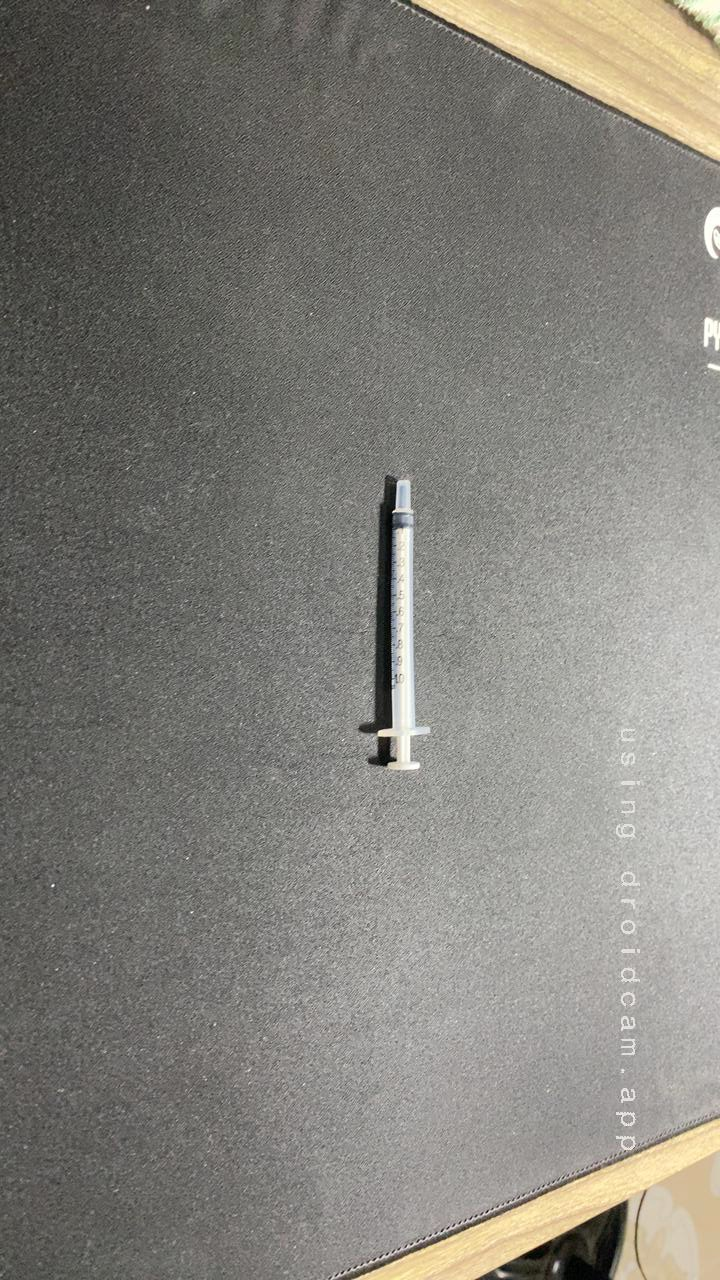syringe: (337, 464, 458, 783)
